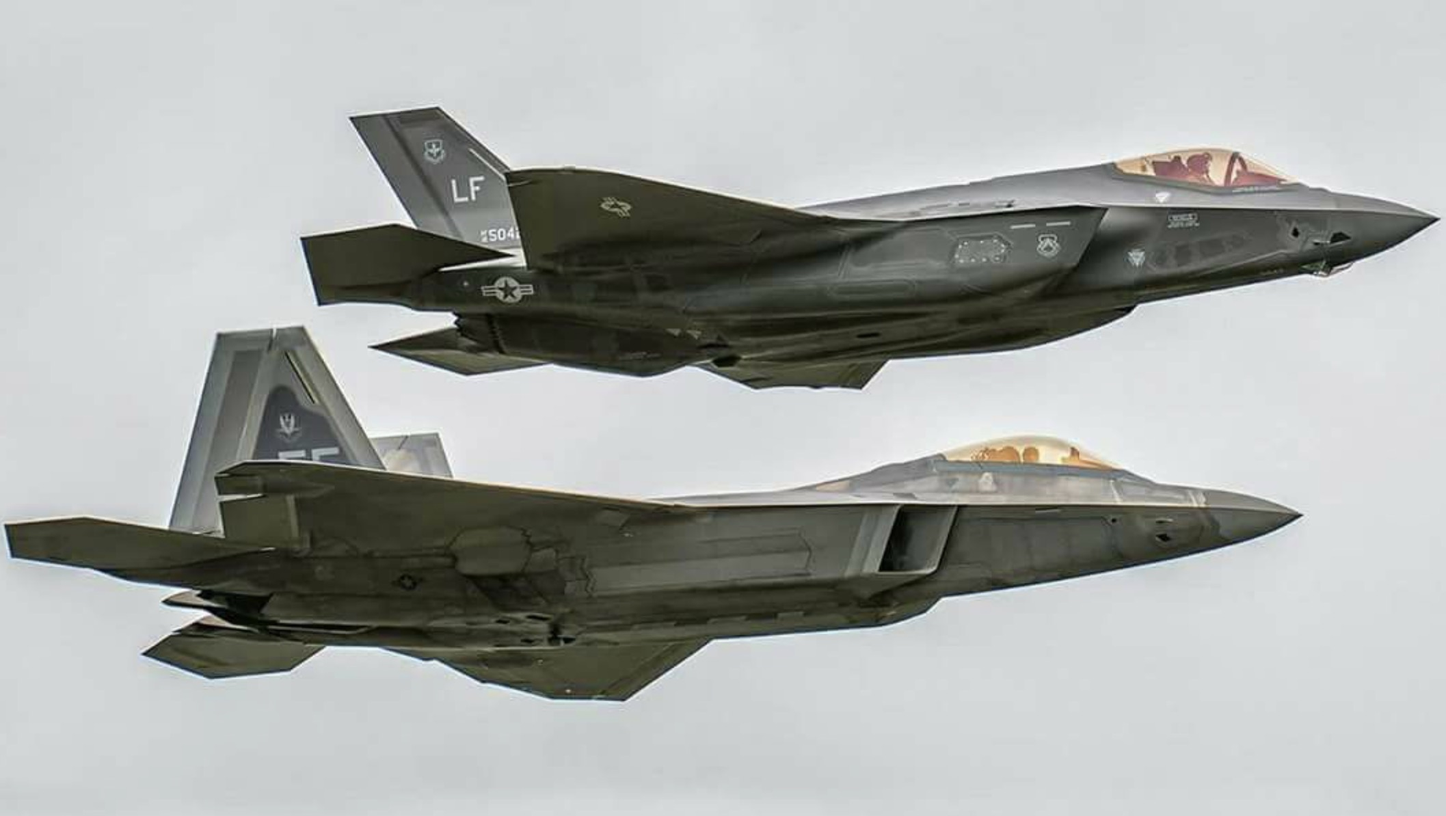F35: (292, 97, 1441, 402)
